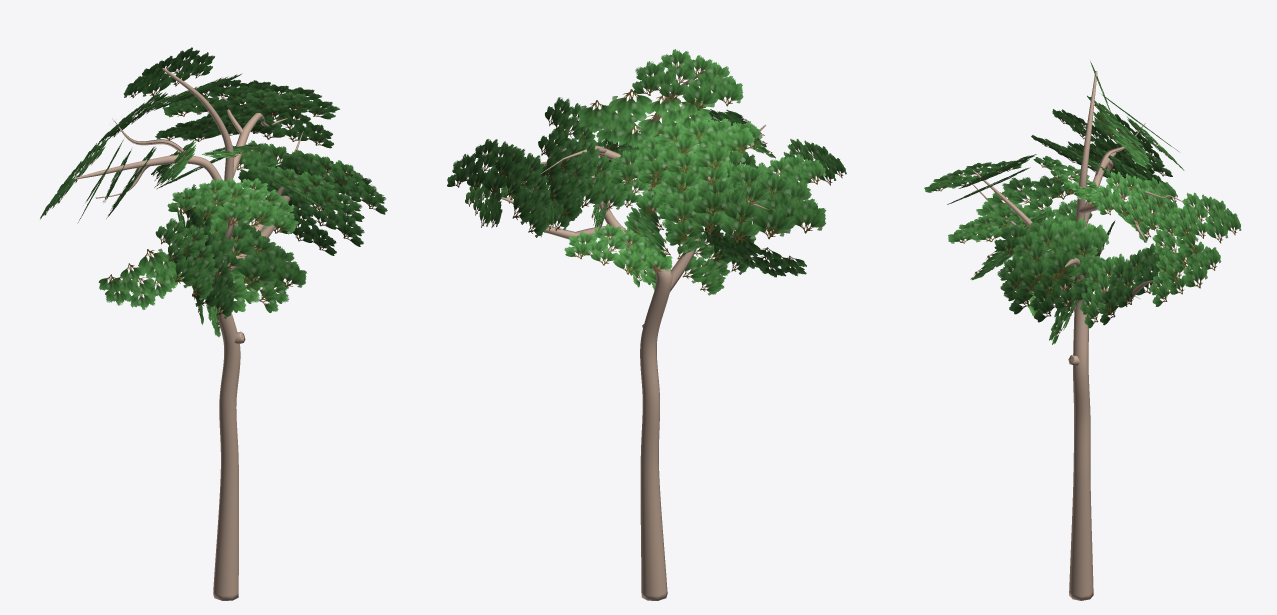
File: pine_tree_l_01.fbx
The picture shows the model from 3 angles, left to right: view 1: azimuth 30°, elevation 25°; view 2: azimuth 150°, elevation 25°; view 3: azimuth 270°, elevation 25°; orthographic projection. The views are drawn at different scales.
Parts seen in each view (by area): view 1: Tube, LeafCard_024, LeafCard_009, LeafCard_034, LeafCard_010, LeafCard_008, LeafCard_018, LeafCard_011, LeafCard_016, LeafCard_014, LeafCard_013, LeafCard_035 (+13 smaller); view 2: Tube, LeafCard_029, LeafCard_032, LeafCard_002, LeafCard_011, LeafCard_001, LeafCard_006, LeafCard_015, LeafCard_031, LeafCard_004, LeafCard_005, LeafCard_021 (+13 smaller); view 3: Tube, LeafCard_008, LeafCard_023, LeafCard_037, LeafCard_006, LeafCard_005, LeafCard_035, LeafCard_036, LeafCard_007, LeafCard_014, LeafCard_026, LeafCard_019 (+15 smaller).
Part boxes in pixels (<box>): Tube: <box>74,68,329,600</box>; LeafCard_024: <box>183,224,306,287</box>; LeafCard_009: <box>167,179,277,225</box>; LeafCard_034: <box>98,248,183,309</box>; LeafCard_010: <box>155,218,217,300</box>; LeafCard_008: <box>281,150,387,214</box>; LeafCard_018: <box>238,164,364,221</box>; LeafCard_011: <box>123,47,214,97</box>; LeafCard_016: <box>261,172,364,246</box>; LeafCard_014: <box>201,89,312,127</box>; LeafCard_013: <box>155,114,274,141</box>; LeafCard_035: <box>243,108,333,148</box>; Tube: <box>477,69,769,600</box>; LeafCard_029: <box>692,164,826,236</box>; LeafCard_032: <box>577,89,711,147</box>; LeafCard_002: <box>634,118,754,182</box>; LeafCard_011: <box>632,49,743,110</box>; LeafCard_001: <box>564,224,672,274</box>; LeafCard_006: <box>495,147,552,237</box>; LeafCard_015: <box>538,129,588,222</box>; LeafCard_031: <box>609,135,728,193</box>; LeafCard_004: <box>664,177,785,242</box>; LeafCard_005: <box>447,139,530,195</box>; LeafCard_021: <box>665,227,730,295</box>; Tube: <box>970,71,1191,600</box>; LeafCard_008: <box>997,223,1093,293</box>; LeafCard_023: <box>976,175,1073,238</box>; LeafCard_037: <box>1098,243,1171,325</box>; LeafCard_006: <box>1172,192,1241,243</box>; LeafCard_005: <box>1152,206,1199,291</box>; LeafCard_035: <box>1149,241,1221,306</box>; LeafCard_036: <box>1079,253,1142,328</box>; LeafCard_007: <box>994,219,1106,279</box>; LeafCard_014: <box>1095,171,1160,221</box>; LeafCard_026: <box>948,209,1043,243</box>; LeafCard_019: <box>1030,255,1110,322</box>.
Bounding box in the file's own units: 358 × 554 × 334.
Materials: 2 (1 with a texture image).
